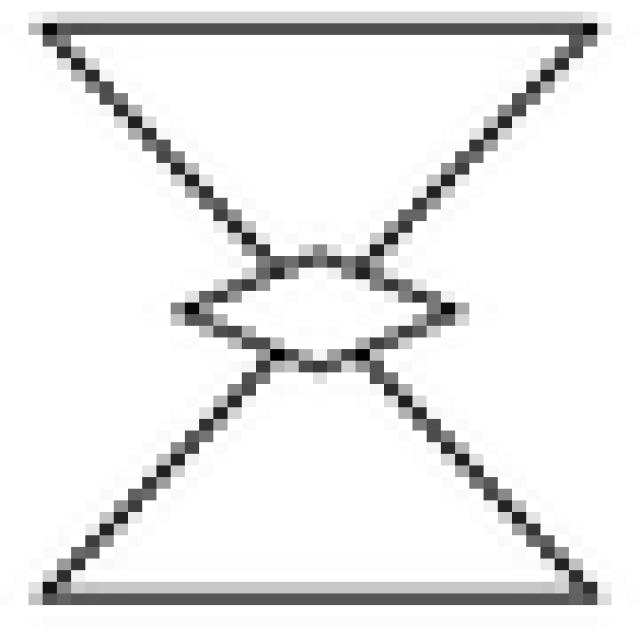Plug Valve: (32, 23, 601, 607)
